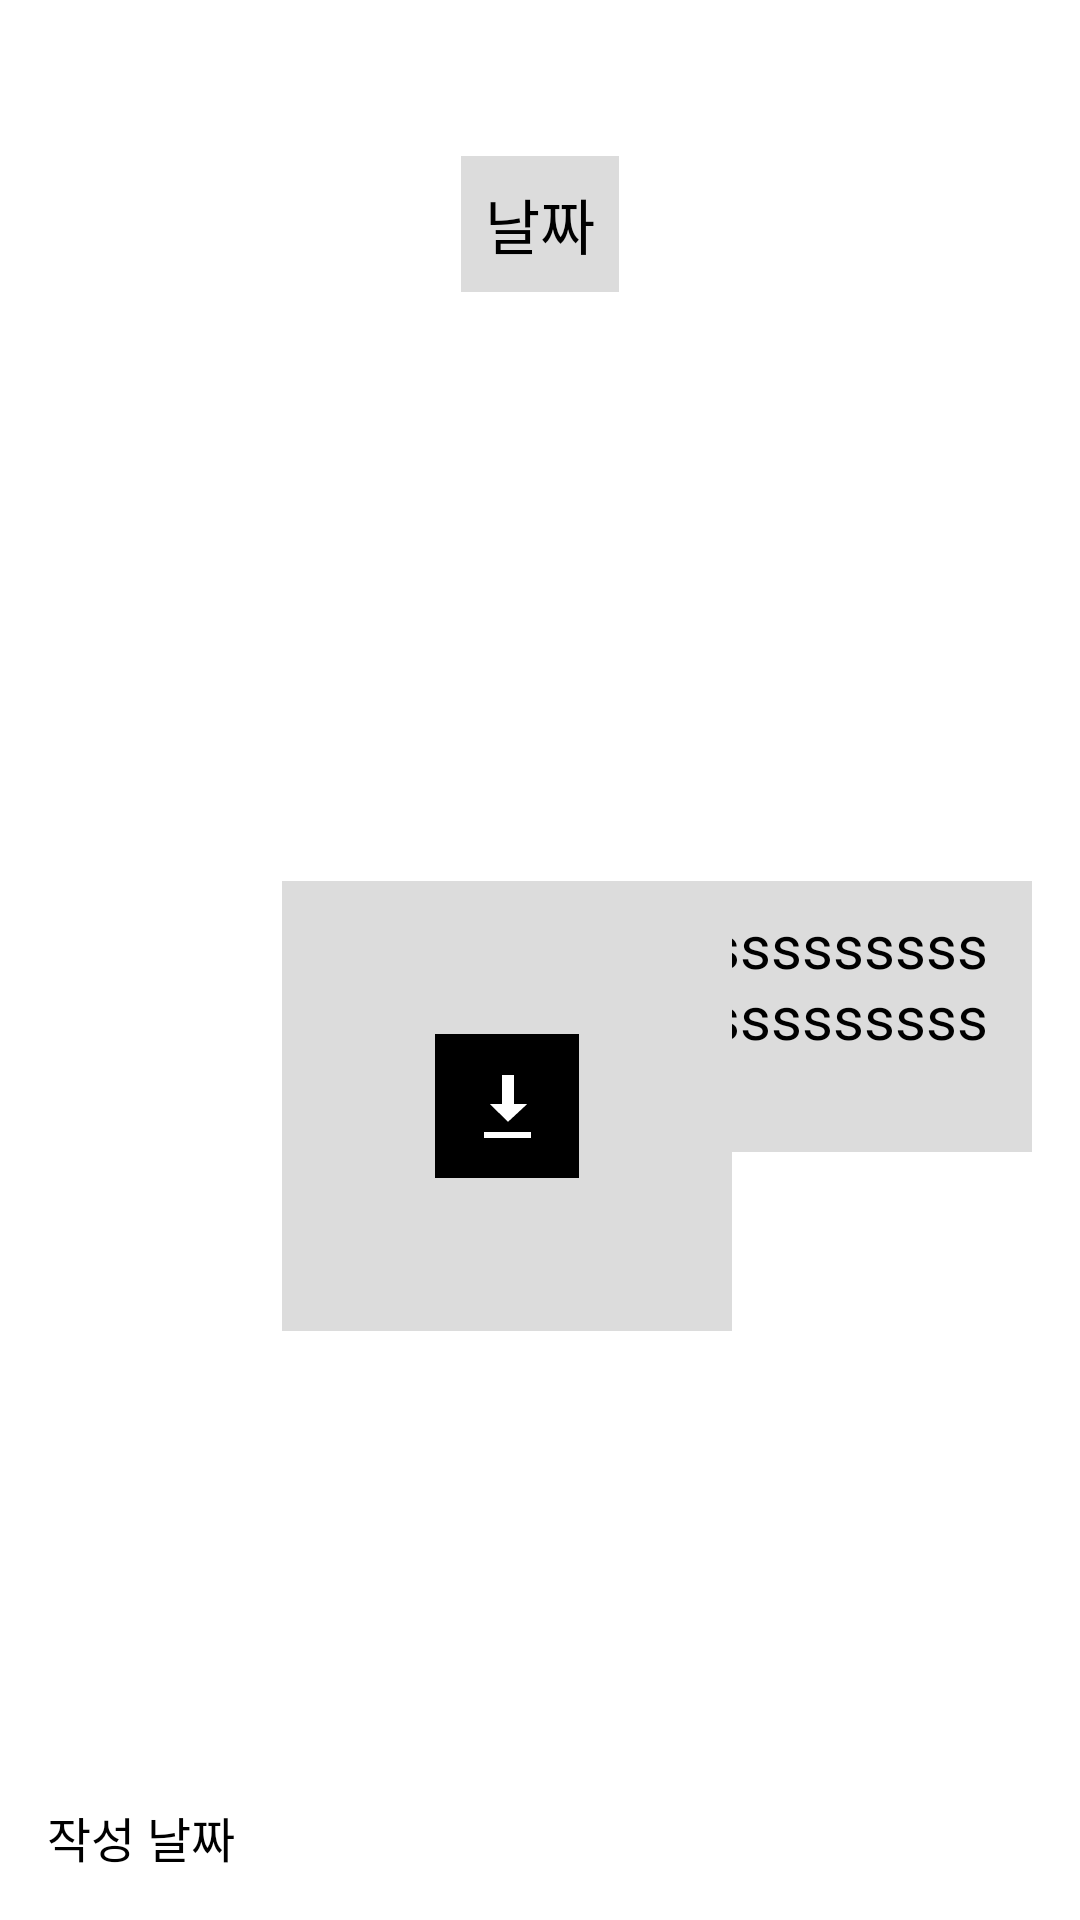

Icons on this 1080px x 1920px Android screen, each with the point to tap as point (x, y):
download: point (507, 1106)
